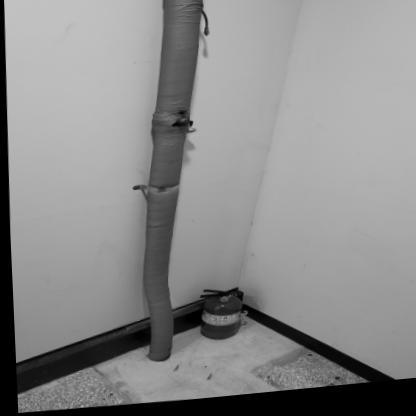FE: (196, 290, 243, 344)
